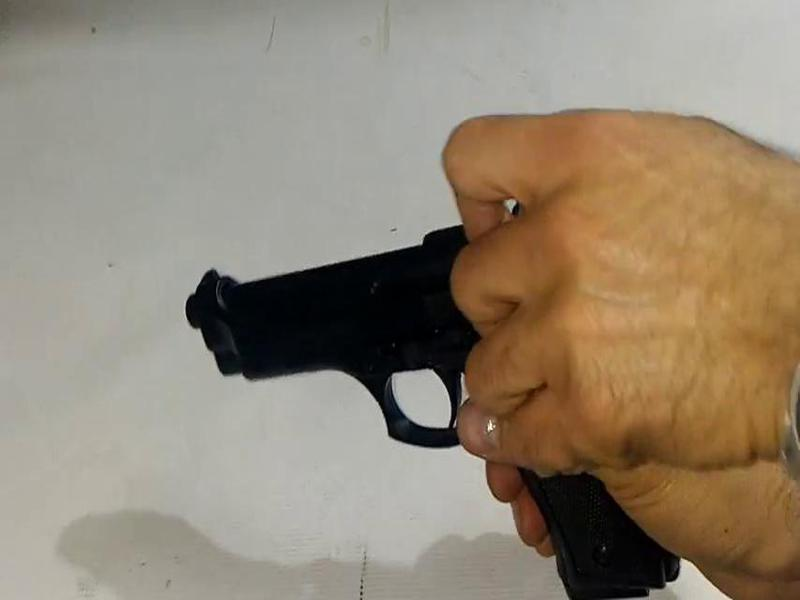Pistola: (180, 213, 673, 587)
